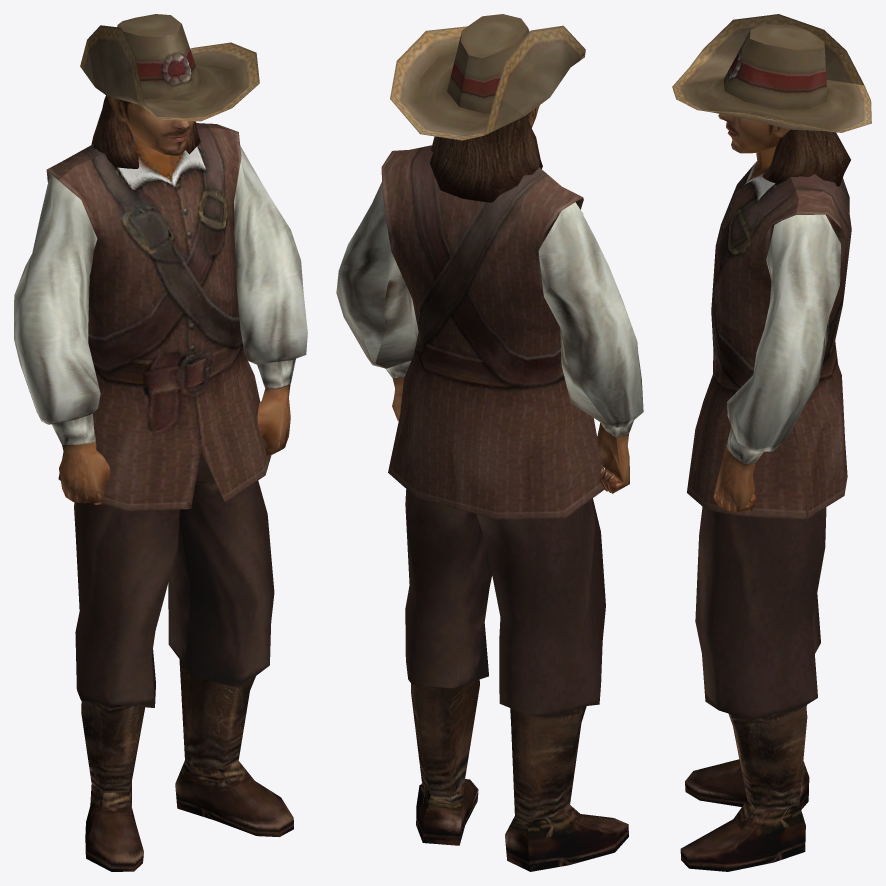
The picture shows the model from 3 angles, left to right: view 1: azimuth 30°, elevation 25°; view 2: azimuth 150°, elevation 25°; view 3: azimuth 270°, elevation 25°; orthographic projection. The views are drawn at different scales.
Parts seen in each view (by area): view 1: objHand_right7; view 2: objHand_right7; view 3: objHand_right7.
Part boxes in pixels (box(x1,y1,x2,y2)): objHand_right7: box(14, 14, 307, 871); objHand_right7: box(336, 14, 643, 871); objHand_right7: box(672, 14, 871, 871).
Bounding box in the file's own units: 6.64 × 18.25 × 4.15.
